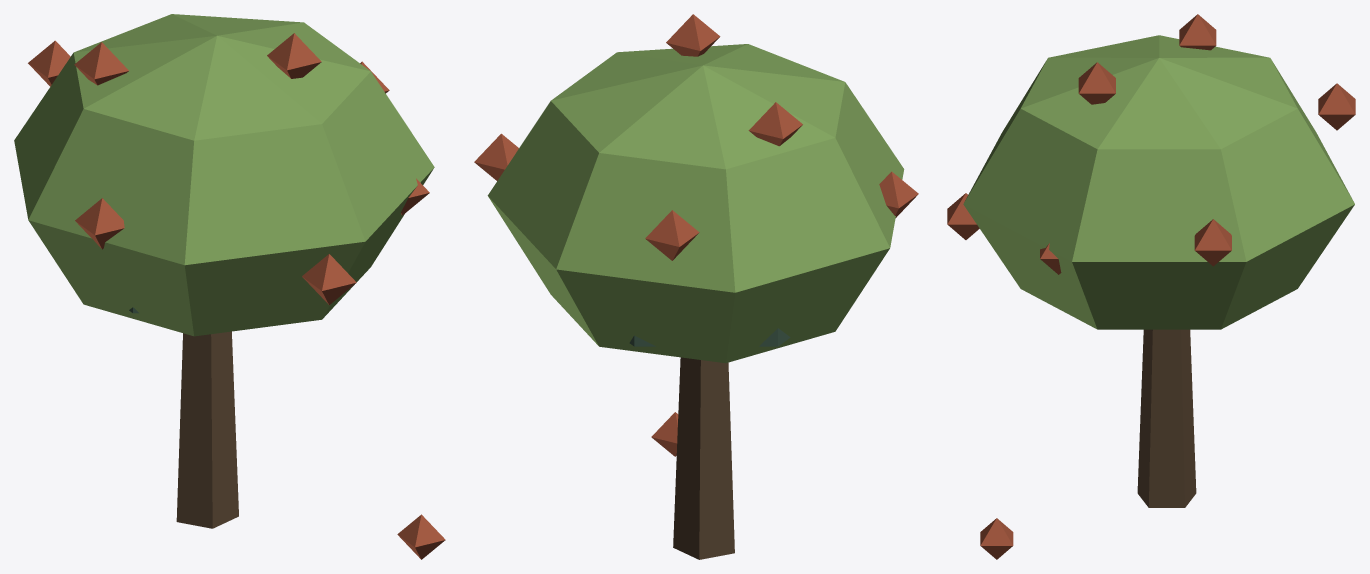
File: prop-apple-tree.glb
3 renders of one model, left to right at view 1: azimuth 30°, elevation 25°; view 2: azimuth 150°, elevation 25°; view 3: azimuth 270°, elevation 25°, orthographic. The views are drawn at different scales.
Visible parts, largest first — view 1: prop-apple-tree; view 2: prop-apple-tree; view 3: prop-apple-tree.
Boxes of the visible parts, x1,y1,x2,y2 form: prop-apple-tree: (14, 14, 445, 559); prop-apple-tree: (474, 14, 918, 559); prop-apple-tree: (947, 14, 1355, 559).
Size of the model in its own units: 2.62 by 3.32 by 2.64.
1 material, 1 textured.
